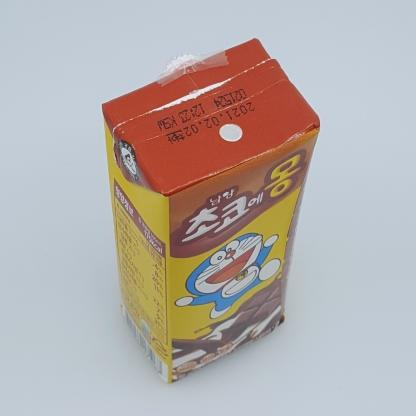---------180ML: (102, 37, 320, 383)
